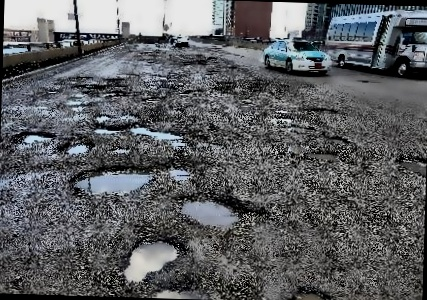pothole: (69, 161, 158, 198), (121, 235, 181, 284), (175, 193, 245, 230), (127, 123, 184, 141), (285, 283, 334, 300), (396, 154, 426, 177), (59, 137, 93, 155), (19, 129, 57, 145), (304, 149, 342, 160), (91, 124, 125, 136), (93, 112, 112, 122)
